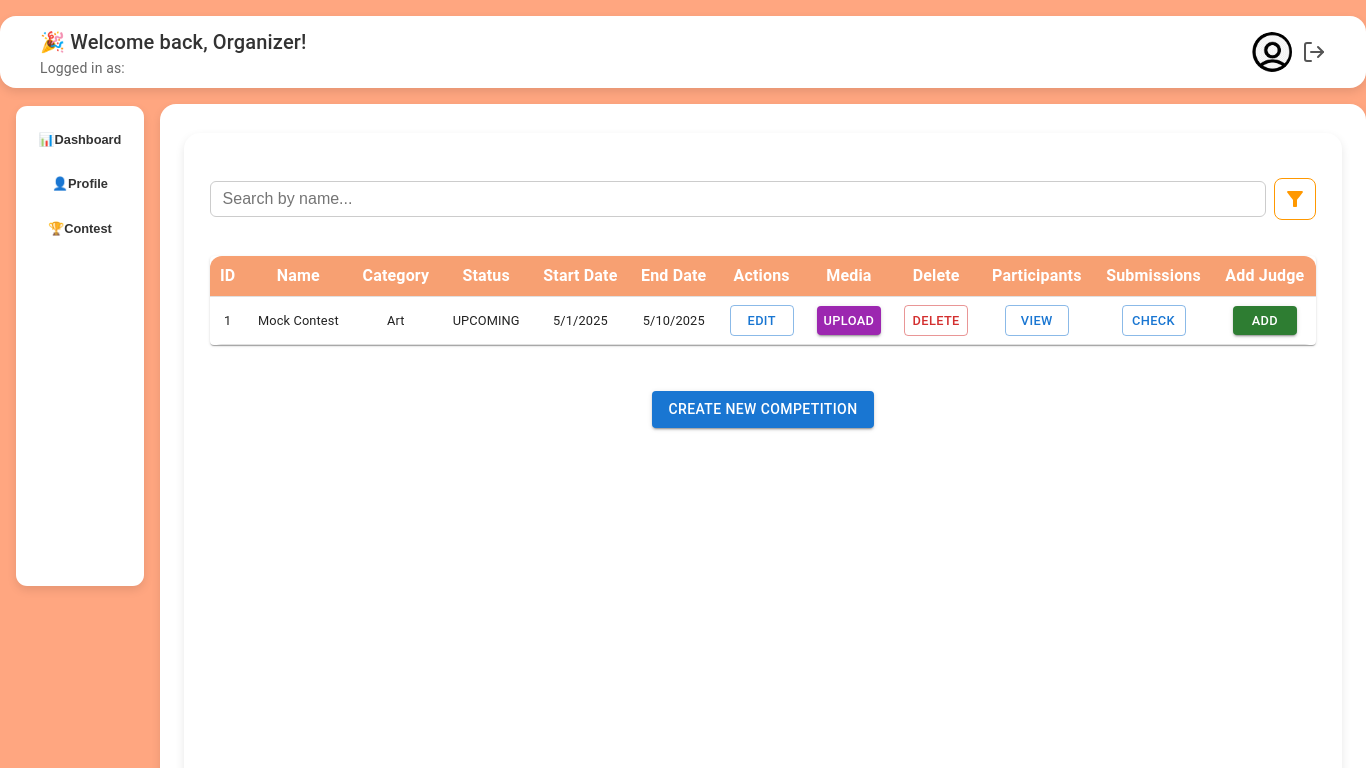
Test: OrganizerContestList › filters contests based on search input
This screenshot has width=1366, height=768.
Check: the text "Mock Contest" is shown, box [246, 297, 351, 345]
Type "Nonexistent" into the field with placeholder "Search by name..." at (738, 199), box [210, 181, 1266, 217]
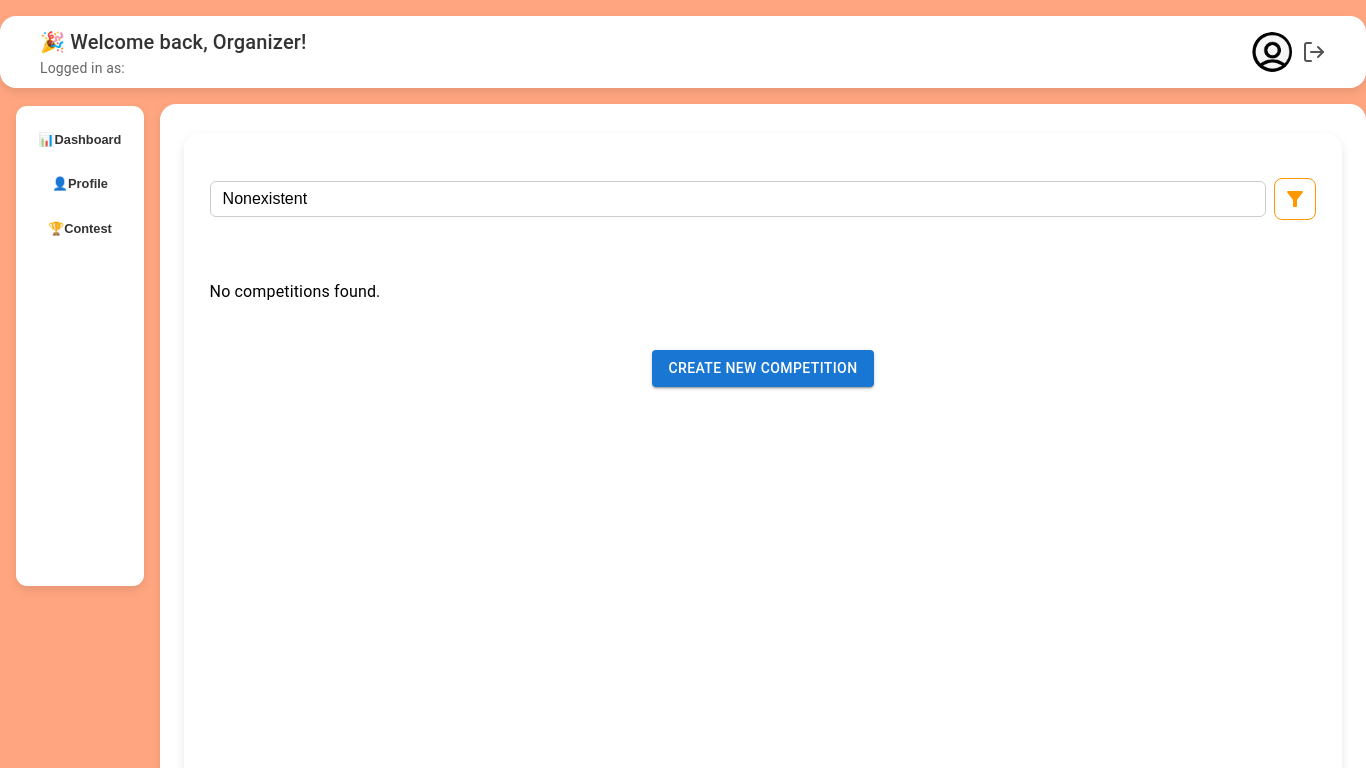
Check: the text "Mock Contest" is gone
